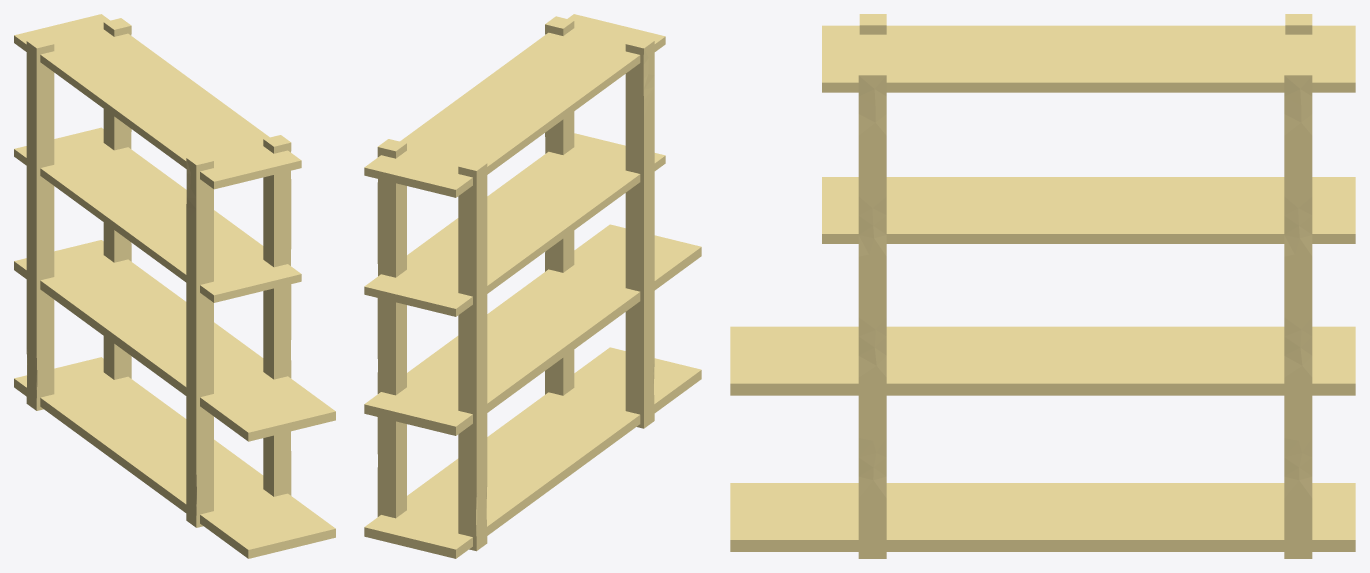
Rendered from input.gltf.
The picture shows the model from 3 angles, left to right: view 1: azimuth 30°, elevation 25°; view 2: azimuth 150°, elevation 25°; view 3: azimuth 270°, elevation 25°; orthographic projection. The views are drawn at different scales.
Visible parts, largest first — view 1: Renderer Node; view 2: Renderer Node; view 3: Renderer Node.
Boxes of the visible parts, left/top/right/bottom form: Renderer Node: left=14, top=14, right=335, bottom=558; Renderer Node: left=364, top=14, right=701, bottom=558; Renderer Node: left=730, top=14, right=1355, bottom=558.
Bounding box in the file's own units: 0.2109 × 0.7734 × 0.9063.
